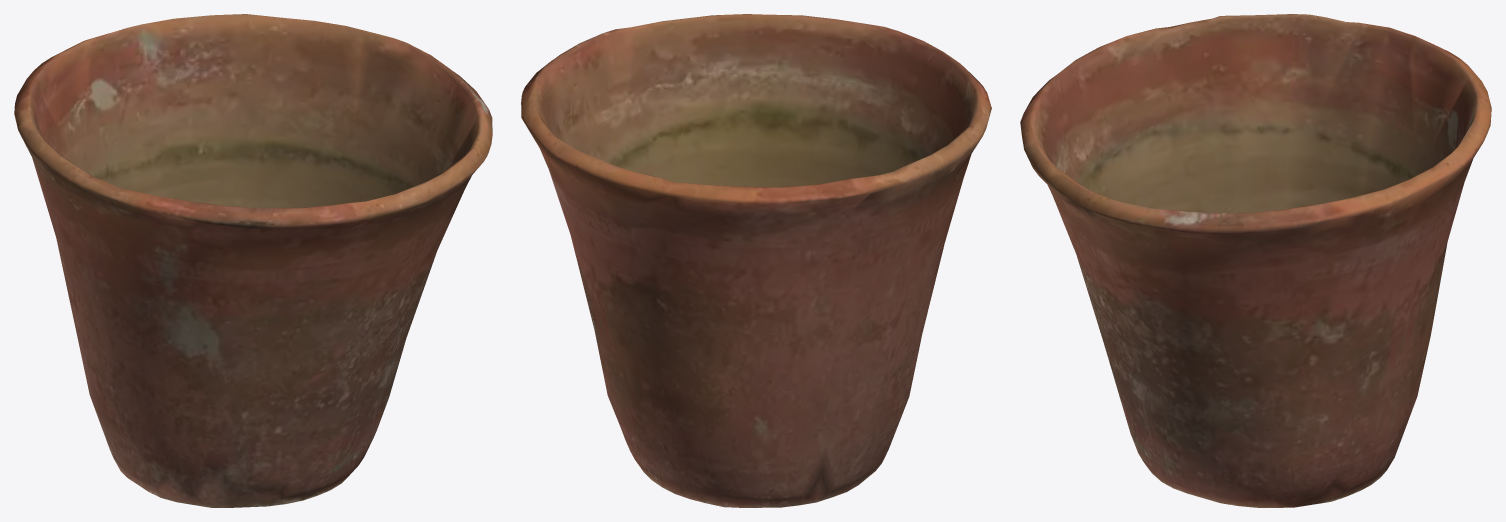
File: planter_pot_clay.glb
3 views of the same model, side by side, from view 1: azimuth 30°, elevation 25°; view 2: azimuth 150°, elevation 25°; view 3: azimuth 270°, elevation 25° (orthographic).
Visible parts, largest first — view 1: planter_pot_clay; view 2: planter_pot_clay; view 3: planter_pot_clay.
Part boxes in pixels (x1,y1,x2,y2): planter_pot_clay: [14, 14, 492, 507]; planter_pot_clay: [521, 14, 991, 507]; planter_pot_clay: [1020, 14, 1491, 507].
Bounding box in the file's own units: 0.266 × 0.2218 × 0.2635.
1 material, 1 textured.
